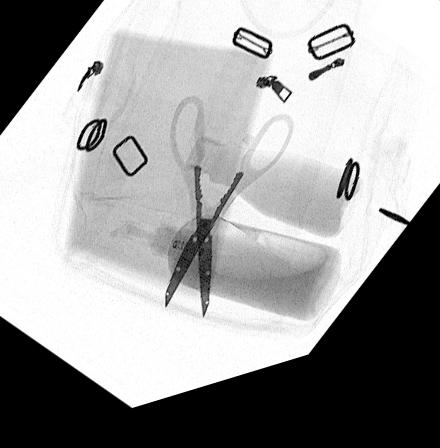Scissors: (161, 104, 294, 328)
